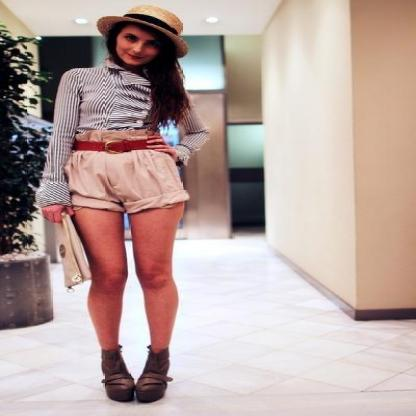hat: (91, 0, 193, 56)
shirt: (28, 63, 204, 207)
shoe: (101, 344, 171, 402)
shorts: (64, 150, 186, 224)
